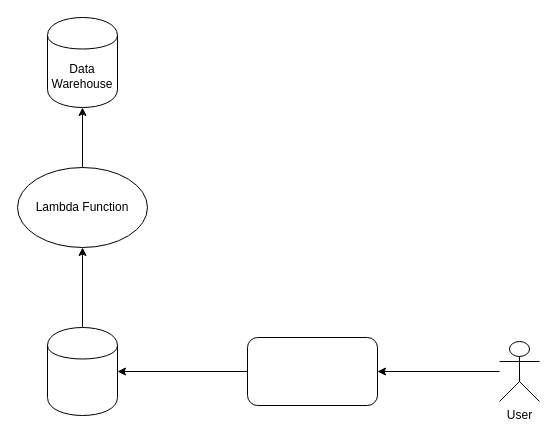
The diagram is 557 pixels wide and 440 high, and some of its shapes have lost their labels. The shapes that lost their labels are listed below. From the top down, each one's centre as x and y in pixels, then its label:
At (x=82, y=371): "DB".
At (x=312, y=371): "Basket Service".
